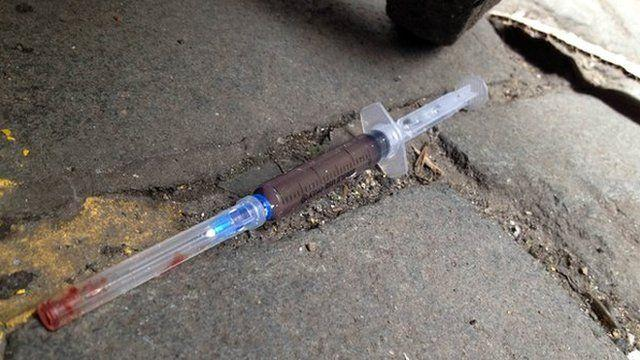Syringe: (37, 77, 487, 329)
